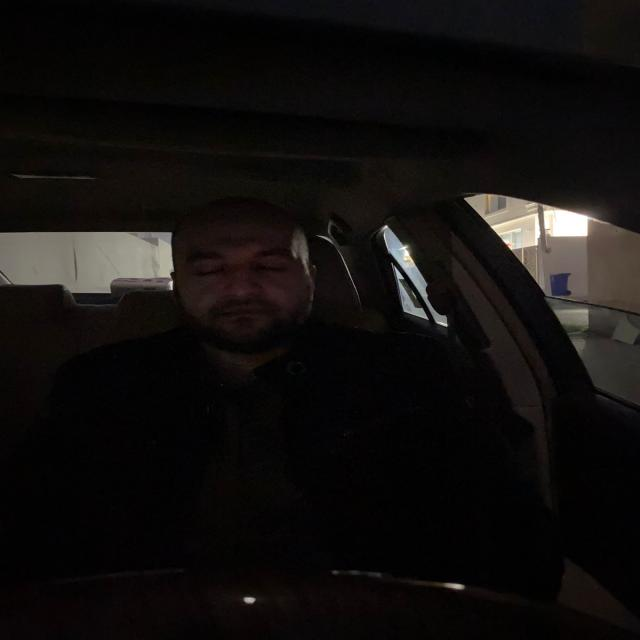drowsy: (160, 188, 334, 355)
